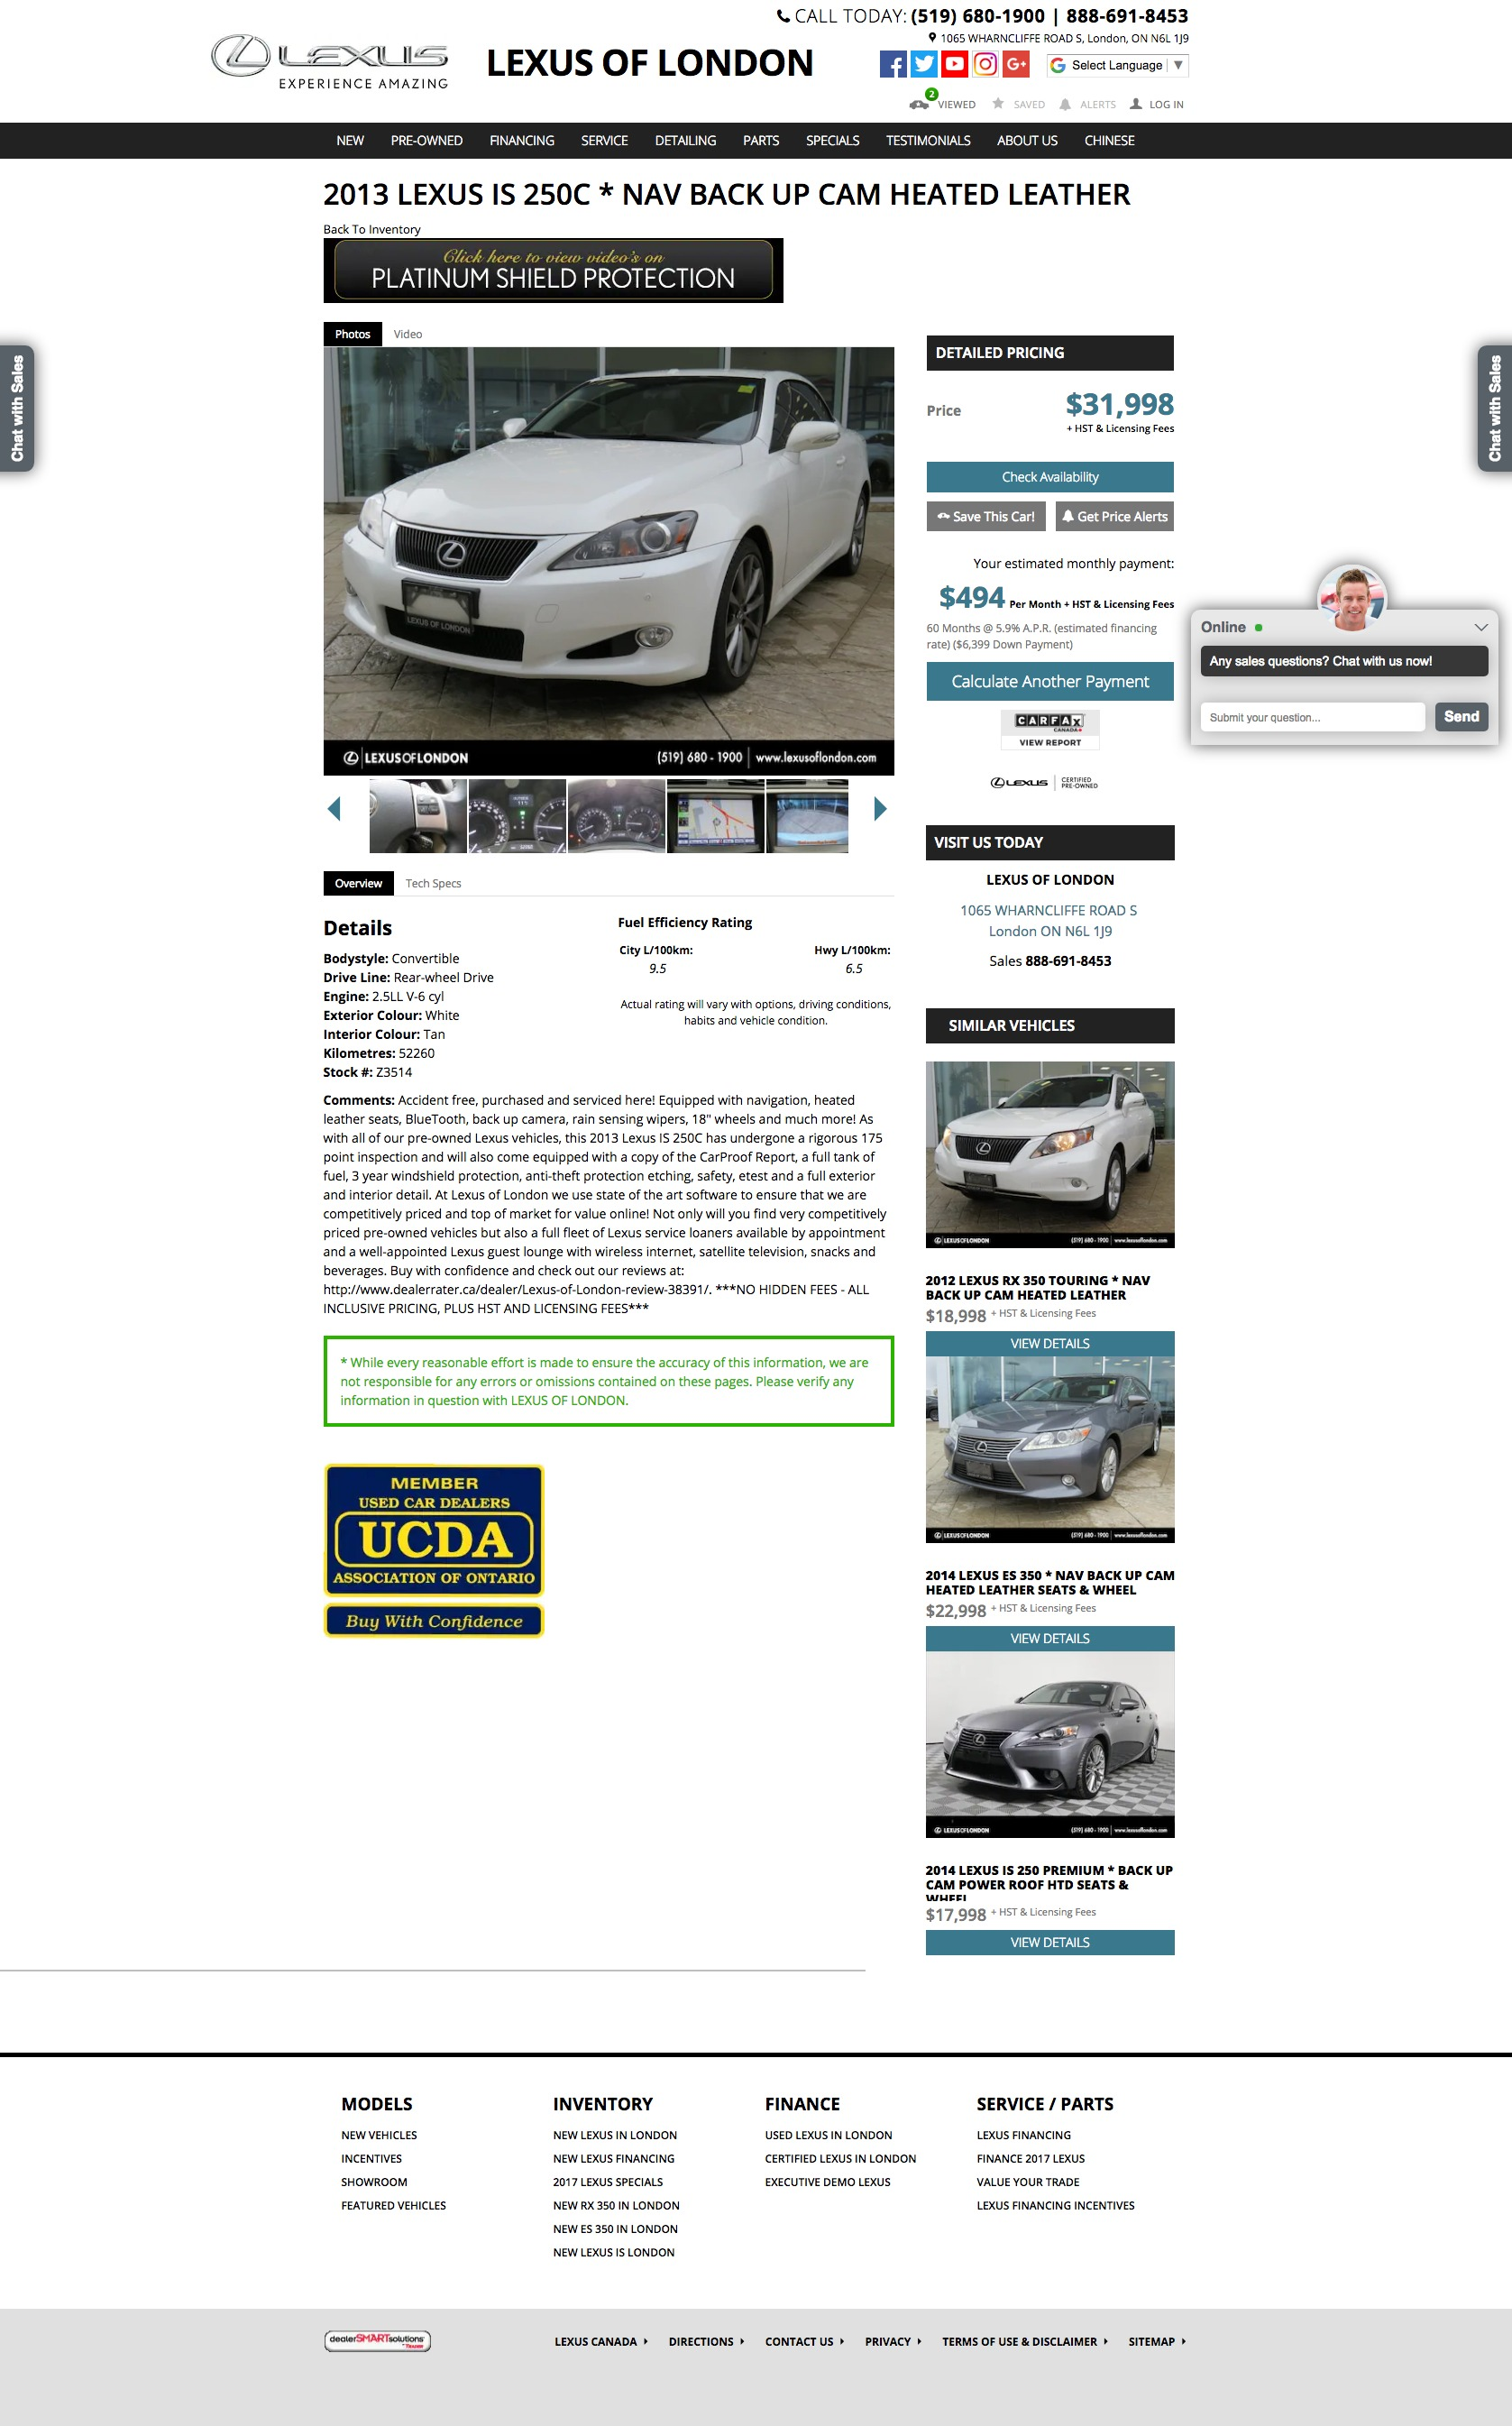car: (874, 796, 888, 822)
